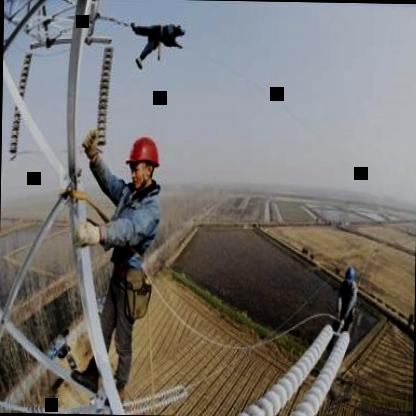helmet: (125, 134, 162, 190), (342, 262, 354, 288)
